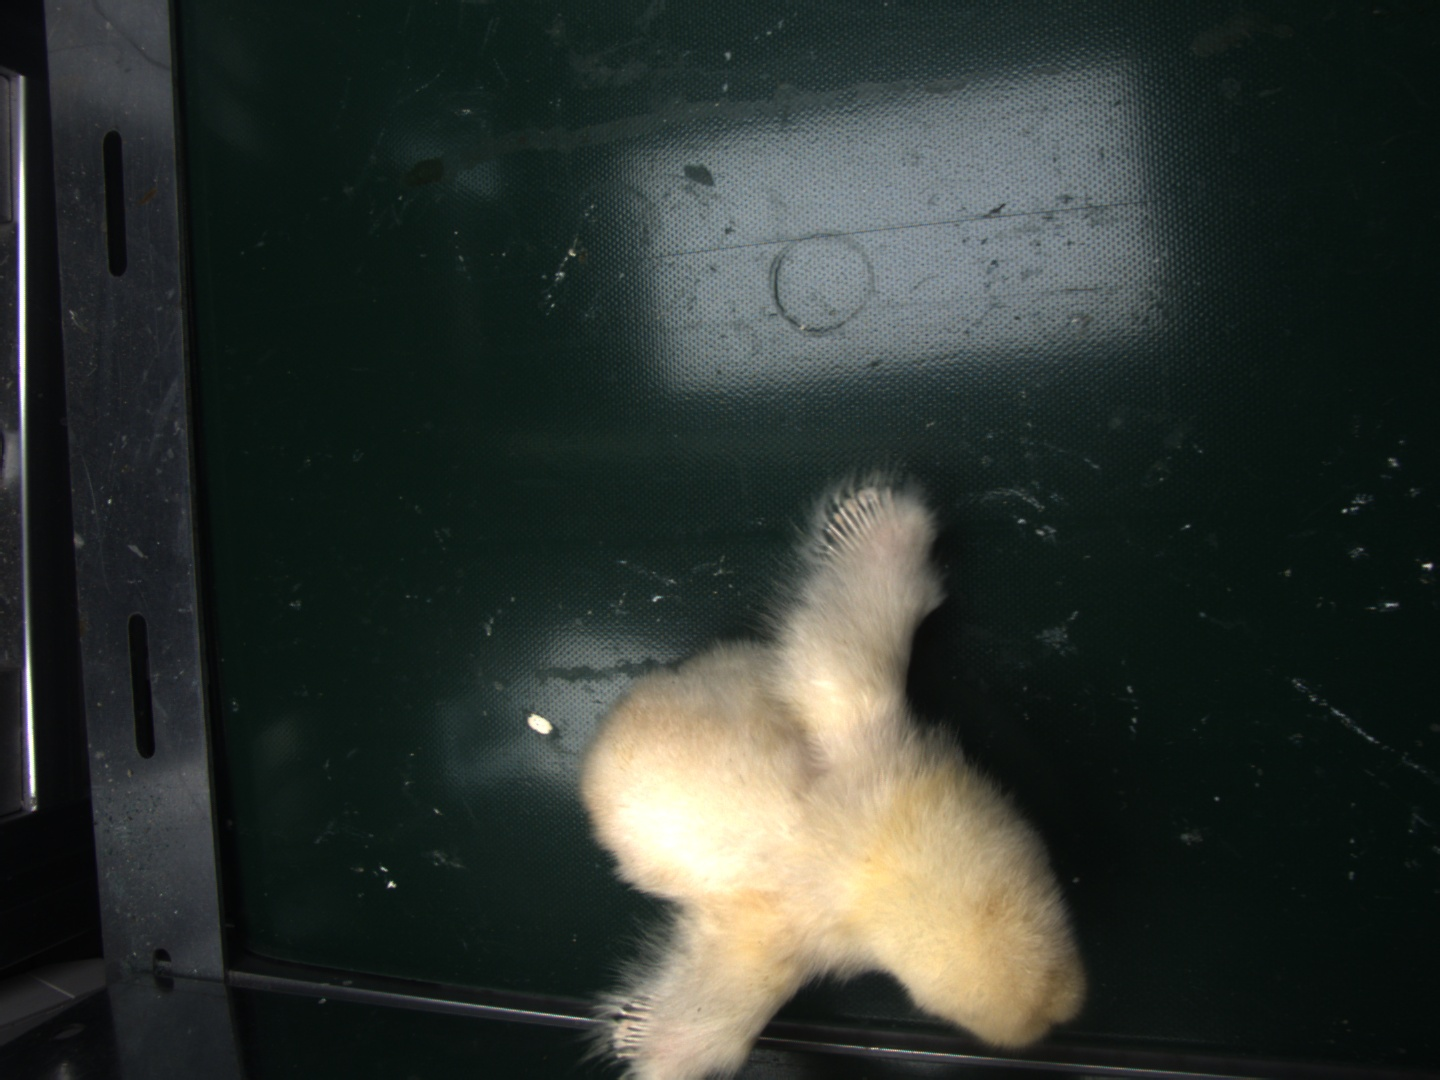male: (819, 486, 888, 557)
